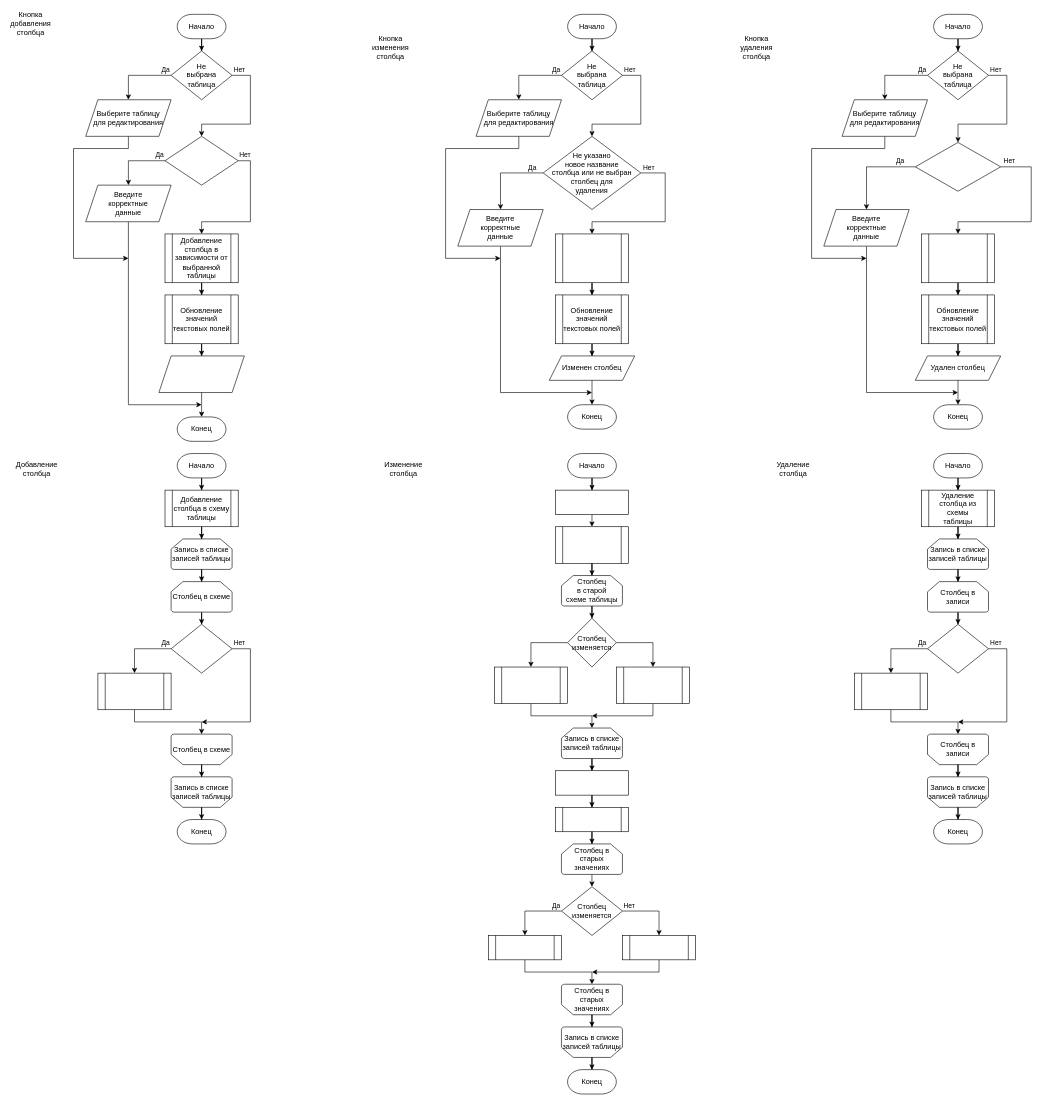
Some shapes in this 1047 by 1105 pixel diagram are drawn without their labels. The centre of each missing label's shape, as x and y in pixels:
"В записи нет столбца" goes at (201,648).
"В схеме нет столбца" goes at (958,648).
"Добавить обновленный столбец" goes at (531,685).
"Добавить старый столбец" goes at (653,685).
"Добавлен новый столбец" goes at (201,374).
"Добавление нового столбца" goes at (525,947).
"Добавление старого столбца" goes at (659,947).
"Добавление столбца в запись" goes at (134,691).
"Изменение столбца в зависимости от выбранной таблицы" goes at (592,258).
"Не выбран столбец для удаления" goes at (958,166).
"Не указано название столбца" goes at (201,160).
"Сброс значений записи" goes at (592,819).
"Сброс нынешней схемы" goes at (592,544).
"Сохранение старой схемы таблицы" goes at (592,502).
"Сохранение старых значений записи" goes at (592,782).
"Удаление столбца в зависимости от выбранной таблицы" goes at (958,258).
"Удаление столбца из запись" goes at (891,691).
